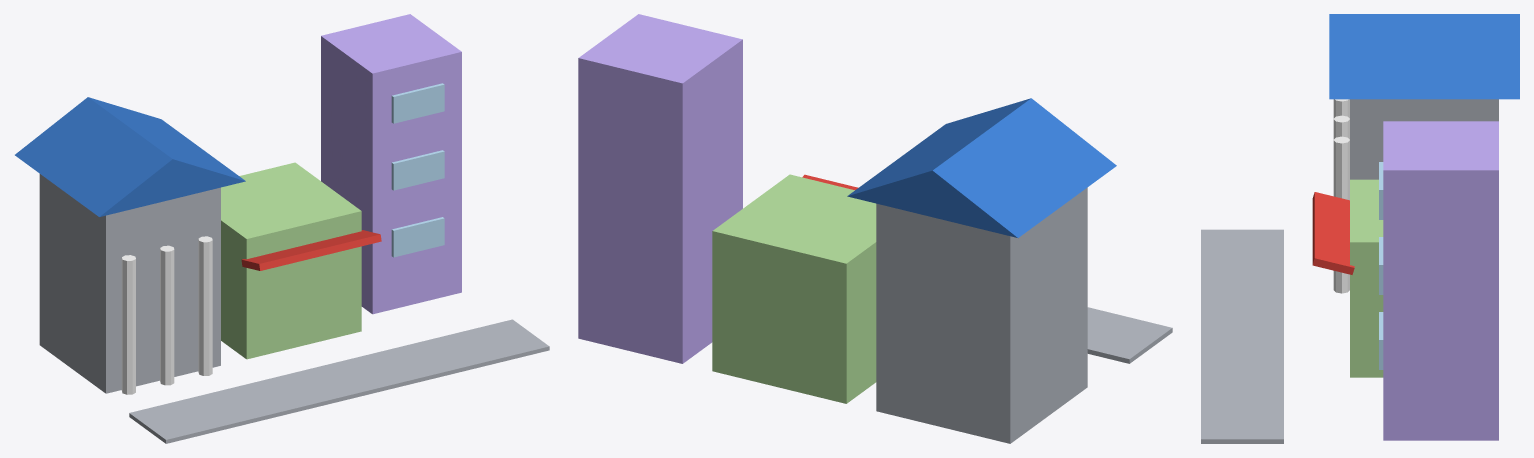
The model's file is b_town.glb.
3 views of the same model, side by side, from view 1: azimuth 30°, elevation 25°; view 2: azimuth 150°, elevation 25°; view 3: azimuth 270°, elevation 25° (orthographic). The views are drawn at different scales.
Parts seen in each view (by area): view 1: Tall, Bank, Shop, Road, BankRoof, Col.001, Col, Col.002, Awning, W.002, W, W.001; view 2: Tall, Bank, Shop, BankRoof, Road; view 3: Tall, Road, BankRoof, Shop, Bank, Awning, Col.002, Col.001.
Boxes of the visible parts, x1,y1,x2,y2 form: Tall: (321, 14, 461, 314); Bank: (39, 174, 220, 393); Shop: (221, 162, 361, 359); Road: (129, 319, 549, 443); BankRoof: (15, 97, 245, 216); Col.001: (160, 245, 174, 385); Col: (121, 255, 135, 394); Col.002: (198, 236, 212, 375); Awning: (241, 230, 381, 270); W.002: (391, 83, 444, 123); W: (391, 217, 444, 257); W.001: (391, 150, 444, 190); Tall: (578, 14, 742, 363); Bank: (876, 187, 1087, 443); Shop: (712, 174, 876, 403); BankRoof: (847, 98, 1116, 237); Road: (1087, 307, 1172, 363); Tall: (1383, 121, 1498, 440); Road: (1201, 229, 1283, 443); BankRoof: (1329, 14, 1519, 99); Shop: (1350, 179, 1383, 377); Bank: (1350, 99, 1498, 179); Awning: (1312, 192, 1354, 274); Col.002: (1333, 136, 1349, 293); Col.001: (1333, 115, 1349, 139).
Bounding box in the file's own units: 6.15 × 3.6 × 3.85.
